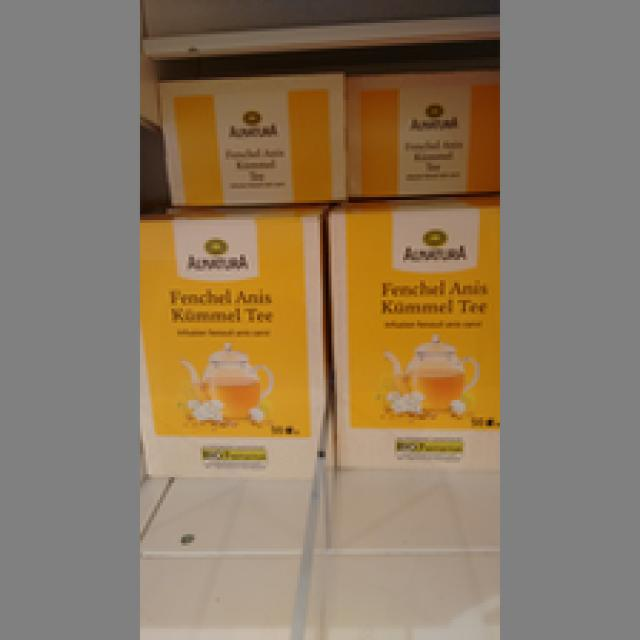groceries: (140, 203, 323, 474), (329, 197, 497, 474)
